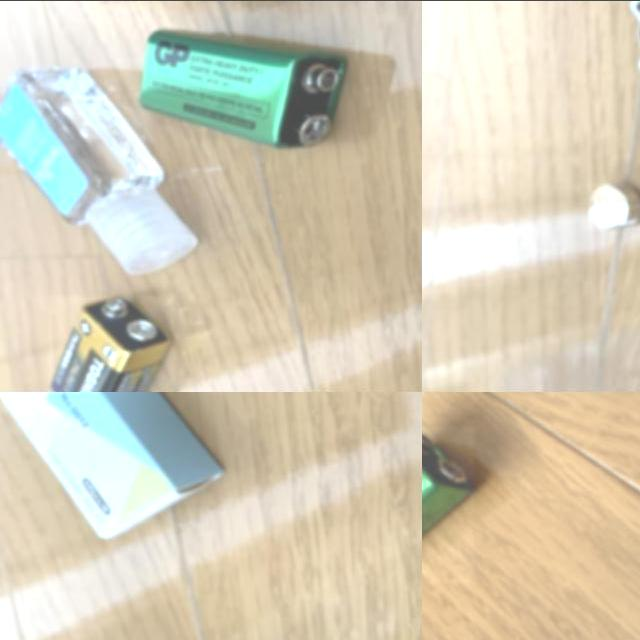9V: (140, 27, 349, 146), (49, 295, 175, 391), (422, 427, 474, 582)
